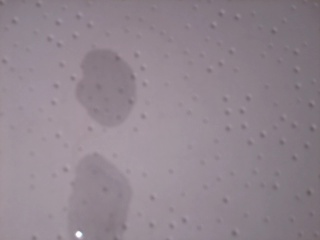Water_detected: (75, 51, 133, 114), (74, 165, 124, 233)
